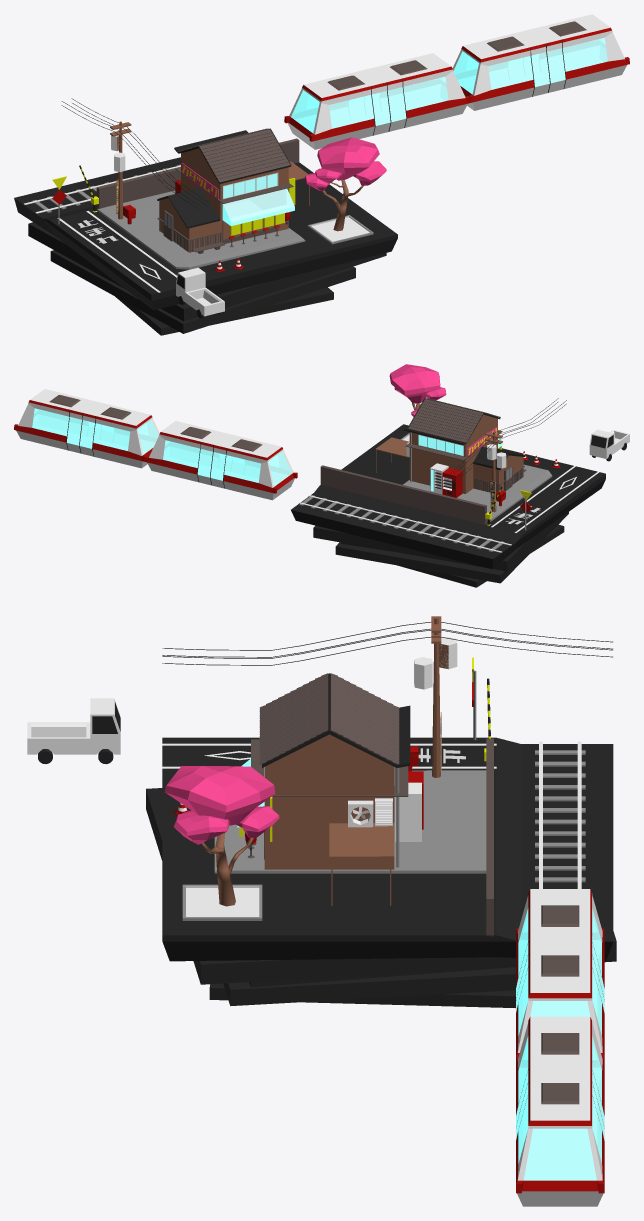
Rendered from paysage9-testTex.gltf.
3 renders of one model, top to bottom at view 1: azimuth 30°, elevation 25°; view 2: azimuth 150°, elevation 25°; view 3: azimuth 270°, elevation 25°, orthographic. The views are drawn at different scales.
Parts seen in each view (by area): view 1: wagon, road, CubeRoad (×3), house, trottoir.001, fleats, wall, car, earth, cable, roadstrip, three (+1 smaller); view 2: wagon, road, CubeRoad (×3), house, wall, trottoir.001, fleats, car, rails, machineBoisson2, cable, roadstrip (+1 smaller); view 3: road, wagon, CubeRoad (×4), house, trottoir.001, fleats, car, earth, cable, wall, machineBoisson1, rails (+4 smaller).
Boxes of the visible parts, left/top/right/bottom form: wagon: left=284, top=14, right=629, bottom=149; road: left=14, top=157, right=397, bottom=310; CubeRoad (×3): left=28, top=222, right=386, bottom=335; house: left=157, top=128, right=309, bottom=252; trottoir.001: left=97, top=190, right=305, bottom=269; fleats: left=305, top=137, right=386, bottom=191; wall: left=96, top=138, right=299, bottom=209; car: left=176, top=267, right=224, bottom=316; earth: left=307, top=215, right=373, bottom=244; cable: left=61, top=98, right=208, bottom=209; roadstrip: left=57, top=211, right=177, bottom=292; three: left=322, top=180, right=363, bottom=231; wagon: left=14, top=389, right=297, bottom=500; road: left=291, top=424, right=605, bottom=569; CubeRoad (×3): left=313, top=512, right=568, bottom=587; house: left=375, top=398, right=525, bottom=493; wall: left=320, top=465, right=486, bottom=524; trottoir.001: left=403, top=464, right=552, bottom=523; fleats: left=389, top=364, right=446, bottom=416; car: left=589, top=429, right=629, bottom=458; rails: left=298, top=495, right=511, bottom=552; machineBoisson2: left=442, top=468, right=462, bottom=497; cable: left=446, top=398, right=566, bottom=482; roadstrip: left=491, top=466, right=599, bottom=532; road: left=162, top=737, right=613, bottom=961; wagon: left=516, top=889, right=604, bottom=1206; CubeRoad (×4): left=146, top=788, right=616, bottom=1008; house: left=237, top=673, right=410, bottom=905; trottoir.001: left=214, top=770, right=486, bottom=873; fleats: left=164, top=766, right=279, bottom=844; car: left=27, top=698, right=120, bottom=754; earth: left=182, top=884, right=262, bottom=920; cable: left=162, top=622, right=612, bottom=665; wall: left=486, top=738, right=493, bottom=936; machineBoisson1: left=395, top=782, right=421, bottom=841; rails: left=539, top=741, right=581, bottom=888.
Bounding box in the file's own units: 40.95 × 10.75 × 21.55.
Materials: 11 (1 with a texture image).
